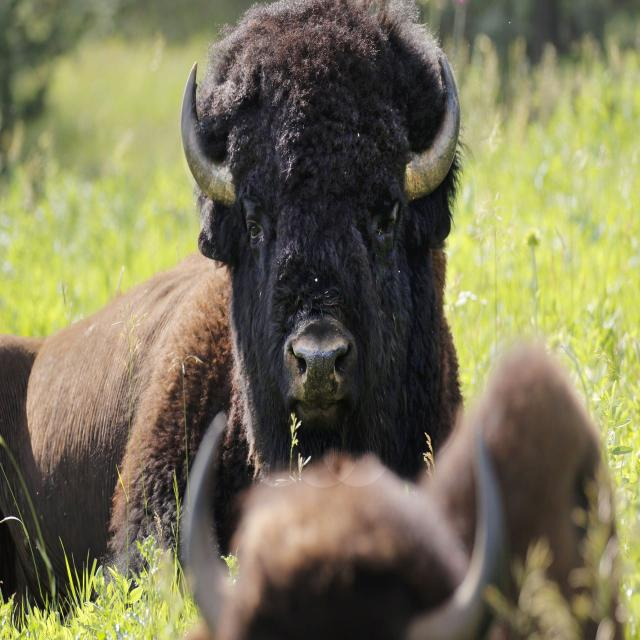Bison: (1, 2, 472, 582)
